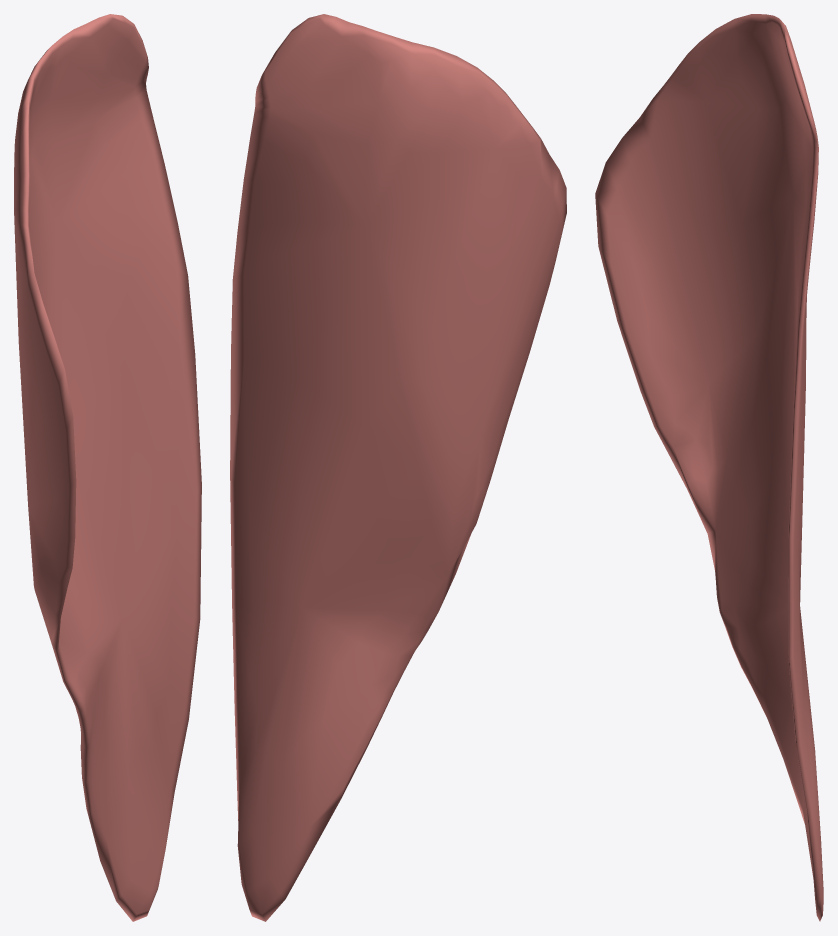
The picture shows the model from 3 angles, left to right: view 1: azimuth 30°, elevation 25°; view 2: azimuth 150°, elevation 25°; view 3: azimuth 270°, elevation 25°; orthographic projection. The views are drawn at different scales.
Parts seen in each view (by area): view 1: ZA_4e98d0e5f496752a; view 2: ZA_4e98d0e5f496752a; view 3: ZA_4e98d0e5f496752a.
Part boxes in pixels (x1,y1,x2,y2): ZA_4e98d0e5f496752a: [14, 14, 201, 921]; ZA_4e98d0e5f496752a: [230, 14, 566, 921]; ZA_4e98d0e5f496752a: [595, 14, 823, 921].
Bounding box in the file's own units: 0.0141 × 0.0504 × 0.0121.
